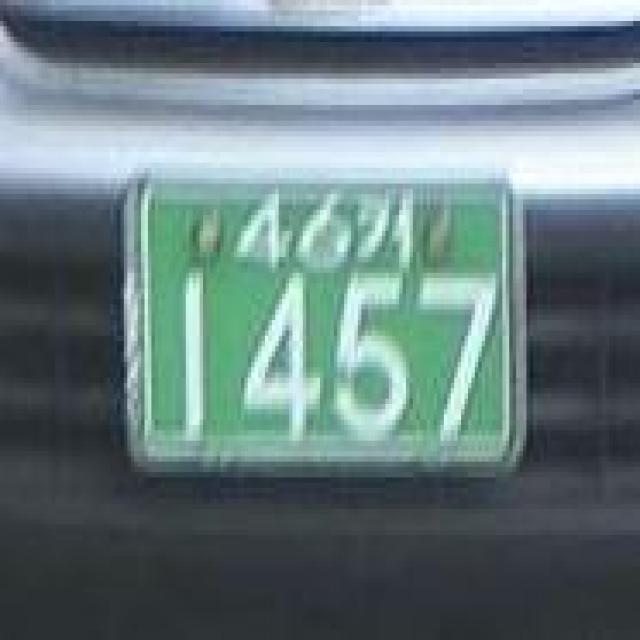illegal_plate: (108, 159, 541, 499)
